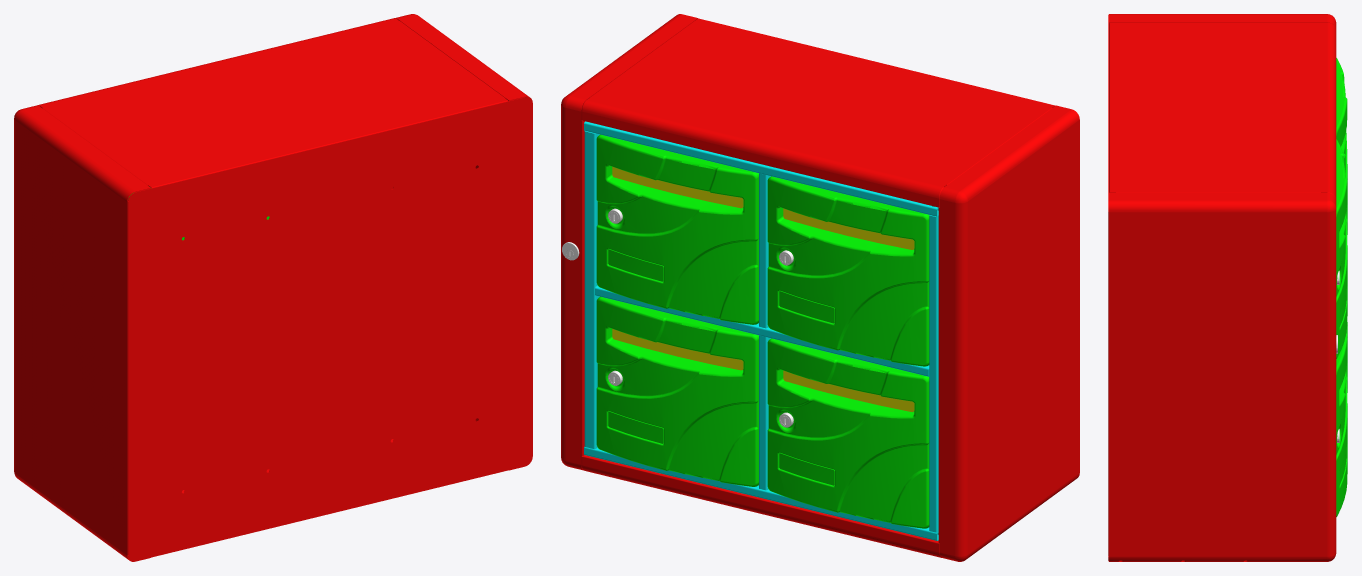
The model's file is elite_B4.glb.
3 views of the same model, side by side, from view 1: azimuth 30°, elevation 25°; view 2: azimuth 150°, elevation 25°; view 3: azimuth 270°, elevation 25° (orthographic). The views are drawn at different scales.
Parts seen in each view (by area): view 1: TOLE FOND coffre arrondie B4, TOLE DROITE coffre arrondie 2, TOLE DESSUS coffre arrondie B, TOLE GAUCHE coffre arrondie 2_Défaut<Brut d''usinage>; view 2: TOLE DROITE coffre arrondie 2, TOLE DESSUS coffre arrondie B, facade portillon élite_node_1, facade portillon élite_node, facade portillon élite_node_0, facade portillon élite, TOLE GAUCHE coffre arrondie 2_Défaut<Brut d''usinage>, TOLE DESSUS coffre arrondie B_node, TOLE PLIEE CROCHET CADRE 2, TUBE DESSUS CADRE B, TUBE COTEE CADRE 2_node, TOLE PLIEE SEPARATION VERTICALE CADRE 2 (+10 smaller); view 3: TOLE GAUCHE coffre arrondie 2_Défaut<Brut d''usinage>, TOLE DESSUS coffre arrondie B, facade portillon élite_node_0, TOLE DROITE coffre arrondie 2, facade portillon élite_node_1, facade portillon élite, TOLE FOND coffre arrondie B4.
Boxes of the visible parts, left/top/right/bottom form: TOLE FOND coffre arrondie B4: left=127, top=97, right=532, bottom=561; TOLE DROITE coffre arrondie 2: left=14, top=105, right=150, bottom=561; TOLE DESSUS coffre arrondie B: left=38, top=18, right=507, bottom=188; TOLE GAUCHE coffre arrondie 2_Défaut<Brut d''usinage>: left=396, top=14, right=532, bottom=470; TOLE DROITE coffre arrondie 2: left=938, top=105, right=1079, bottom=561; TOLE DESSUS coffre arrondie B: left=581, top=18, right=1054, bottom=207; facade portillon élite_node_1: left=596, top=296, right=758, bottom=486; facade portillon élite_node: left=767, top=338, right=929, bottom=528; facade portillon élite_node_0: left=596, top=134, right=758, bottom=324; facade portillon élite: left=767, top=176, right=929, bottom=366; TOLE GAUCHE coffre arrondie 2_Défaut<Brut d''usinage>: left=561, top=14, right=697, bottom=470; TOLE DESSUS coffre arrondie B_node: left=581, top=455, right=941, bottom=557; TOLE PLIEE CROCHET CADRE 2: left=584, top=121, right=599, bottom=454; TUBE DESSUS CADRE B: left=585, top=121, right=938, bottom=216; TUBE COTEE CADRE 2_node: left=929, top=215, right=938, bottom=532; TOLE PLIEE SEPARATION VERTICALE CADRE 2: left=759, top=173, right=770, bottom=490; TOLE GAUCHE coffre arrondie 2_Défaut<Brut d''usinage>: left=1109, top=192, right=1336, bottom=561; TOLE DESSUS coffre arrondie B: left=1109, top=22, right=1336, bottom=199; facade portillon élite_node_0: left=1336, top=139, right=1347, bottom=358; TOLE DROITE coffre arrondie 2: left=1109, top=14, right=1336, bottom=29; facade portillon élite_node_1: left=1336, top=337, right=1347, bottom=516; facade portillon élite: left=1336, top=58, right=1347, bottom=234; TOLE FOND coffre arrondie B4: left=1108, top=14, right=1108, bottom=561.
Size of the model in its own units: 732 by 638 by 383.
